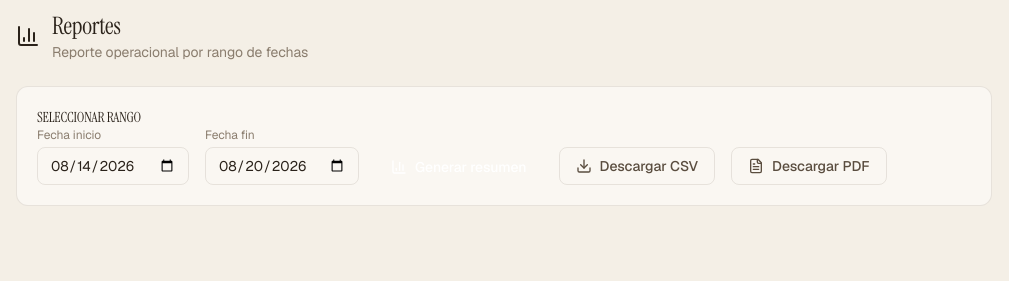
ReportExportPage › surfaces Spanish 400 error message when PDF range > 31 days
This screenshot has width=1009, height=281.
Type "2026-01-01" into the date field labelled "Fecha inicio" at (113,166), box x1=37 y1=147 x2=189 y2=185
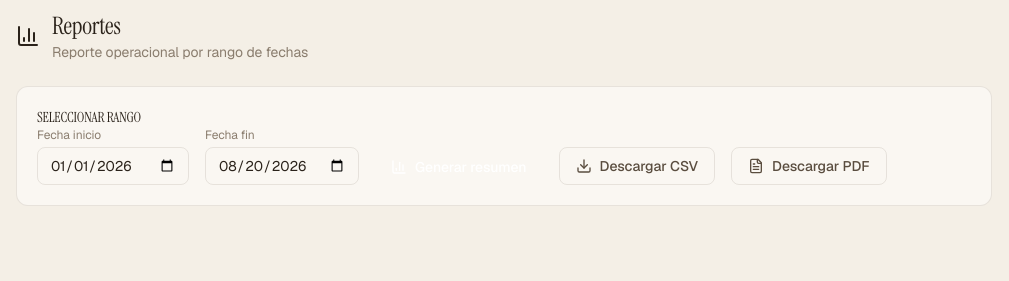
Type "2026-02-15" into the date field labelled "Fecha fin" at (282,166), box x1=205 y1=147 x2=359 y2=185
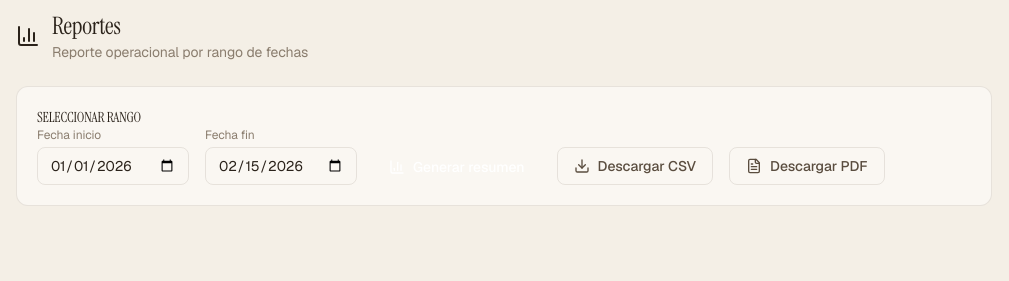
Click the button "Descargar PDF" at (807,166), box x1=729 y1=147 x2=884 y2=185
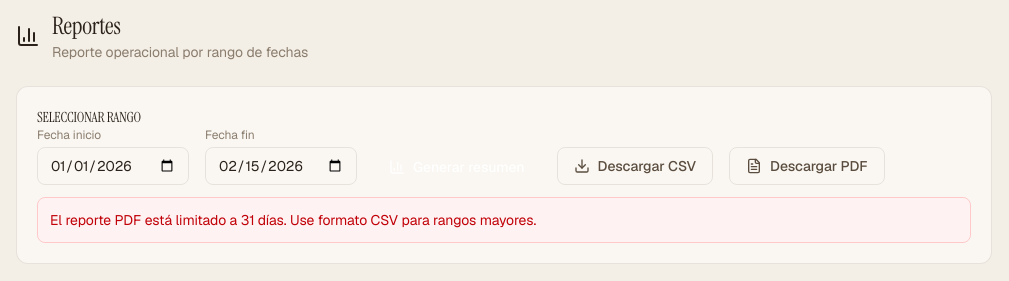
expect the text "El reporte PDF está limitado a 31 días. Use formato CSV para rangos mayores." is shown: met, box x1=37 y1=197 x2=971 y2=243
